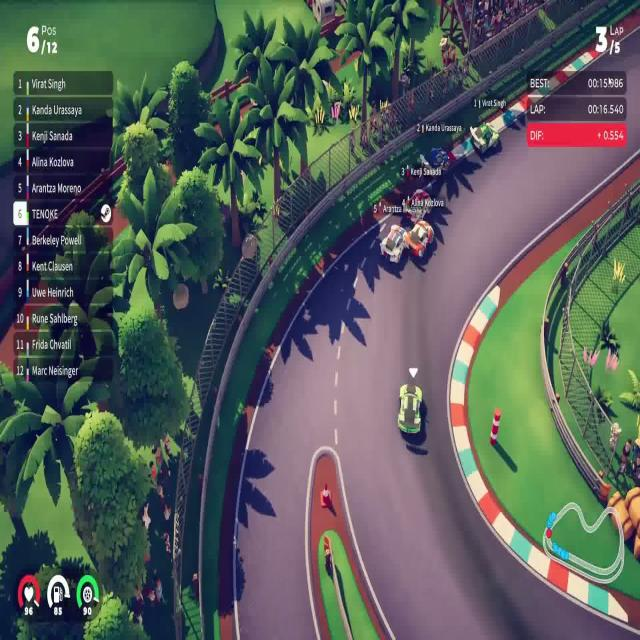car: (397, 382, 423, 437), (418, 142, 452, 182), (404, 218, 434, 259), (379, 223, 408, 265), (469, 120, 500, 156), (404, 191, 432, 220)
